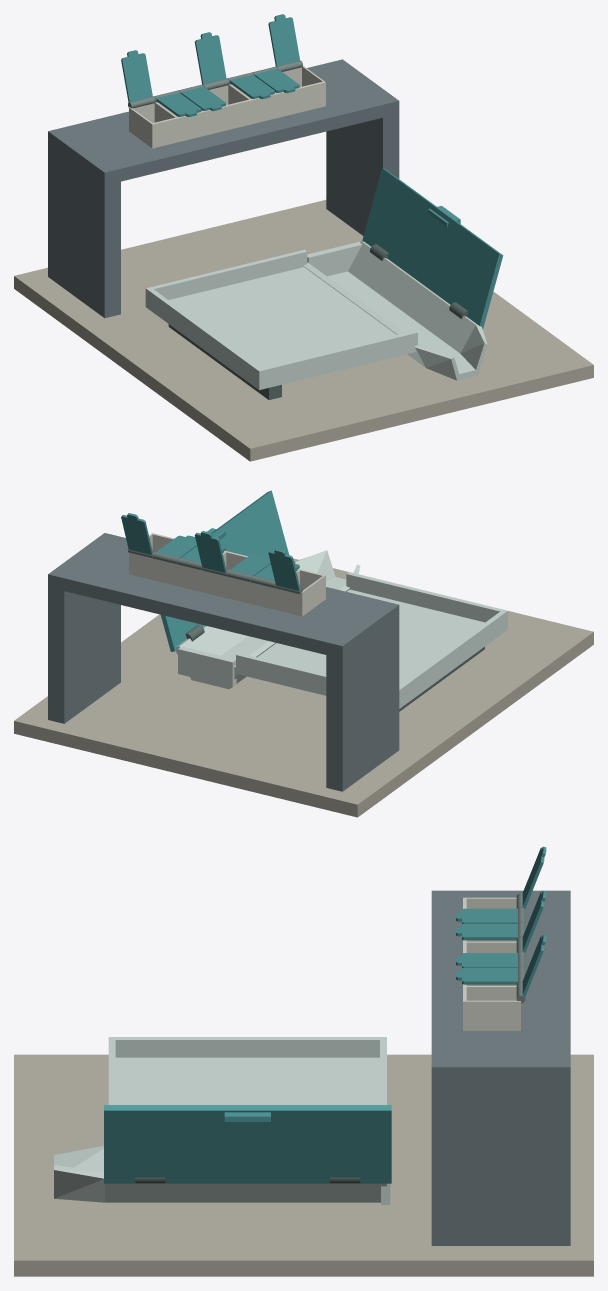
The picture shows the model from 3 angles, top to bottom: view 1: azimuth 30°, elevation 25°; view 2: azimuth 150°, elevation 25°; view 3: azimuth 270°, elevation 25°; orthographic projection. The views are drawn at different scales.
Visible parts, largest first — view 1: SCENE_ONLY__BaseTwinPiersAndOpenBridgeShelf, tray__WholeFlatDeckAndThreeLowRims, tray__WholeLongRaisedChannelCover, tray__WholeDeepChannelAndTaperedOpenMouth, organizer__WholeContinuousFloorAndSevenIntegralWells, organizer__WholeIndividualTabbedLid_7, organizer__WholeIndividualTabbedLid_1, organizer__WholeIndividualTabbedLid_4, tray__WholeRearChannelStop, organizer__WholeIndividualTabbedLid_2, organizer__WholeIndividualTabbedLid_5, organizer__WholeIndividualTabbedLid_6 (+1 smaller); view 2: SCENE_ONLY__BaseTwinPiersAndOpenBridgeShelf, tray__WholeFlatDeckAndThreeLowRims, organizer__WholeContinuousFloorAndSevenIntegralWells, tray__WholeLongRaisedChannelCover, tray__WholeDeepChannelAndTaperedOpenMouth, tray__WholeRearChannelStop, organizer__WholeIndividualTabbedLid_1, organizer__WholeIndividualTabbedLid_4, organizer__WholeIndividualTabbedLid_7, organizer__WholeIndividualTabbedLid_3, organizer__WholeIndividualTabbedLid_6; view 3: SCENE_ONLY__BaseTwinPiersAndOpenBridgeShelf, tray__WholeLongRaisedChannelCover, tray__WholeFlatDeckAndThreeLowRims, tray__WholeDeepChannelAndTaperedOpenMouth, organizer__WholeContinuousFloorAndSevenIntegralWells, organizer__WholeIndividualTabbedLid_3, organizer__WholeIndividualTabbedLid_6, organizer__WholeIndividualTabbedLid_2, organizer__WholeIndividualTabbedLid_5.
Boxes of the visible parts, box(x1,y1,x2,y2) form: SCENE_ONLY__BaseTwinPiersAndOpenBridgeShelf: box(14, 59, 593, 461); tray__WholeFlatDeckAndThreeLowRims: box(145, 249, 417, 390); tray__WholeLongRaisedChannelCover: box(362, 168, 503, 329); tray__WholeDeepChannelAndTaperedOpenMouth: box(303, 241, 487, 380); organizer__WholeContinuousFloorAndSevenIntegralWells: box(129, 65, 325, 148); organizer__WholeIndividualTabbedLid_7: box(268, 14, 300, 66); organizer__WholeIndividualTabbedLid_1: box(121, 50, 152, 102); organizer__WholeIndividualTabbedLid_4: box(194, 32, 226, 84); tray__WholeRearChannelStop: box(307, 241, 361, 276); organizer__WholeIndividualTabbedLid_2: box(156, 92, 201, 116); organizer__WholeIndividualTabbedLid_5: box(230, 74, 274, 99); organizer__WholeIndividualTabbedLid_6: box(254, 68, 299, 93); SCENE_ONLY__BaseTwinPiersAndOpenBridgeShelf: box(14, 533, 593, 817); tray__WholeFlatDeckAndThreeLowRims: box(236, 572, 507, 708); organizer__WholeContinuousFloorAndSevenIntegralWells: box(129, 533, 325, 616); tray__WholeLongRaisedChannelCover: box(161, 490, 289, 651); tray__WholeDeepChannelAndTaperedOpenMouth: box(176, 550, 360, 689); tray__WholeRearChannelStop: box(178, 646, 236, 687); organizer__WholeIndividualTabbedLid_1: box(268, 549, 300, 590); organizer__WholeIndividualTabbedLid_4: box(194, 531, 226, 572); organizer__WholeIndividualTabbedLid_7: box(121, 513, 152, 554); organizer__WholeIndividualTabbedLid_3: box(230, 553, 270, 575); organizer__WholeIndividualTabbedLid_6: box(156, 535, 196, 557); SCENE_ONLY__BaseTwinPiersAndOpenBridgeShelf: box(14, 890, 593, 1276); tray__WholeLongRaisedChannelCover: box(104, 1105, 391, 1183); tray__WholeFlatDeckAndThreeLowRims: box(108, 1037, 386, 1104); tray__WholeDeepChannelAndTaperedOpenMouth: box(54, 1145, 386, 1202); organizer__WholeContinuousFloorAndSevenIntegralWells: box(463, 897, 520, 1030); organizer__WholeIndividualTabbedLid_3: box(456, 923, 517, 940); organizer__WholeIndividualTabbedLid_6: box(456, 967, 517, 984); organizer__WholeIndividualTabbedLid_2: box(456, 908, 517, 923); organizer__WholeIndividualTabbedLid_5: box(456, 953, 517, 967).
Size of the model in its own units: 0.42 by 0.267 by 0.5.
